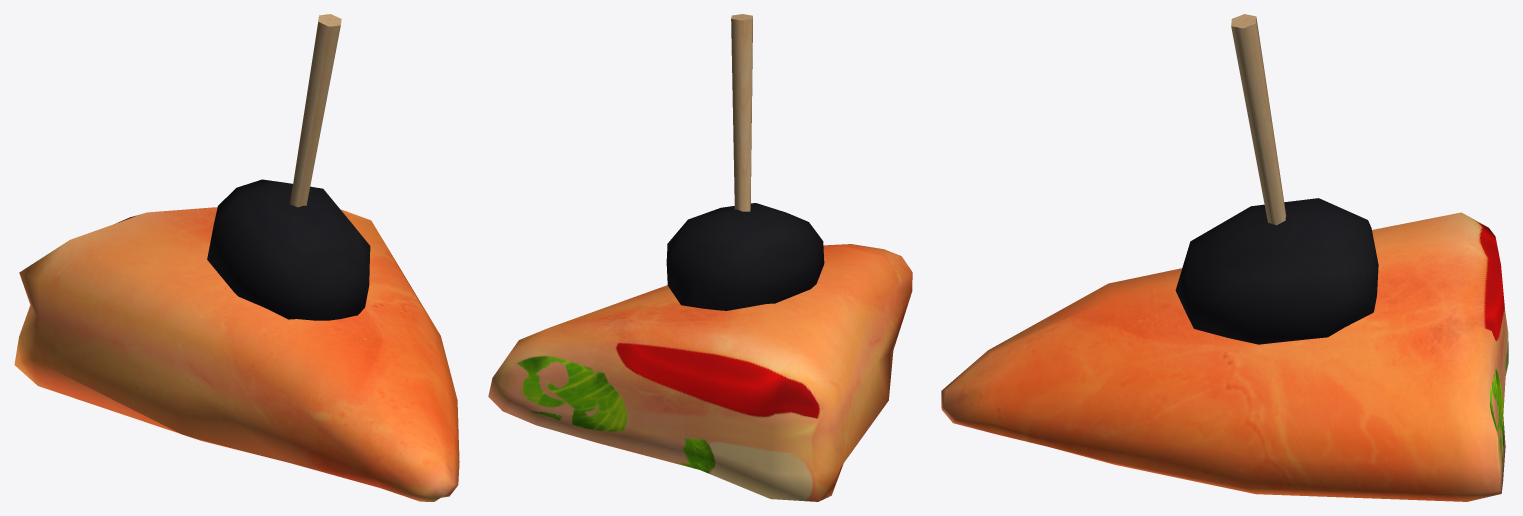
The model's file is BuffetSnacks02_7.FBX.
The picture shows the model from 3 angles, left to right: view 1: azimuth 30°, elevation 25°; view 2: azimuth 150°, elevation 25°; view 3: azimuth 270°, elevation 25°; orthographic projection. The views are drawn at different scales.
Parts seen in each view (by area): view 1: BuffetSnacks02_7; view 2: BuffetSnacks02_7; view 3: BuffetSnacks02_7.
Part boxes in pixels (x1,y1,x2,y2): BuffetSnacks02_7: [14, 14, 459, 501]; BuffetSnacks02_7: [488, 14, 912, 501]; BuffetSnacks02_7: [941, 14, 1508, 501].
Size of what is drawn, in the model's own units: 0.0993 by 0.106 by 0.1261.
